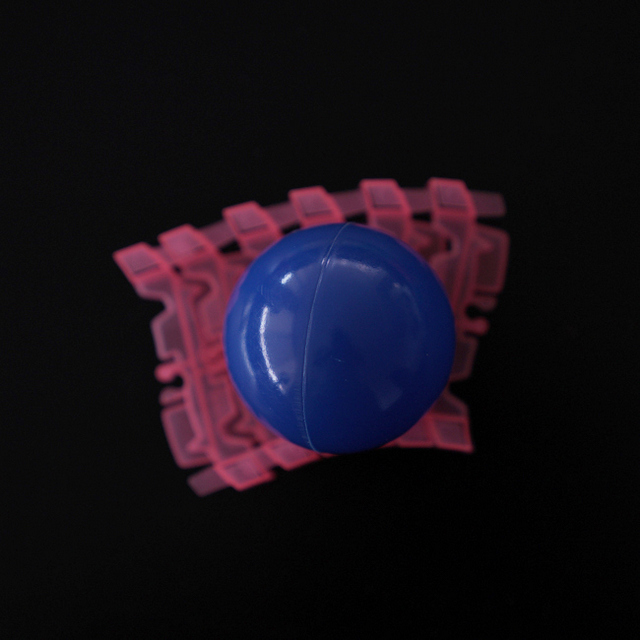Ball: (225, 219, 455, 454)
